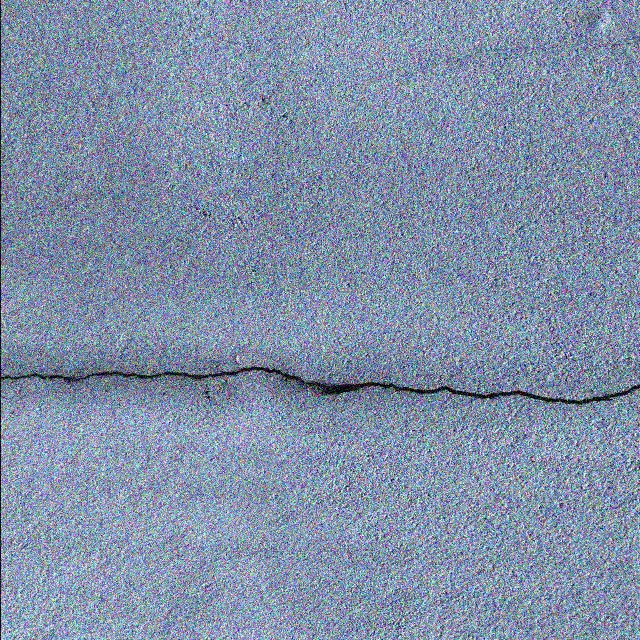SurfaceCrack: (1, 317, 639, 446)
